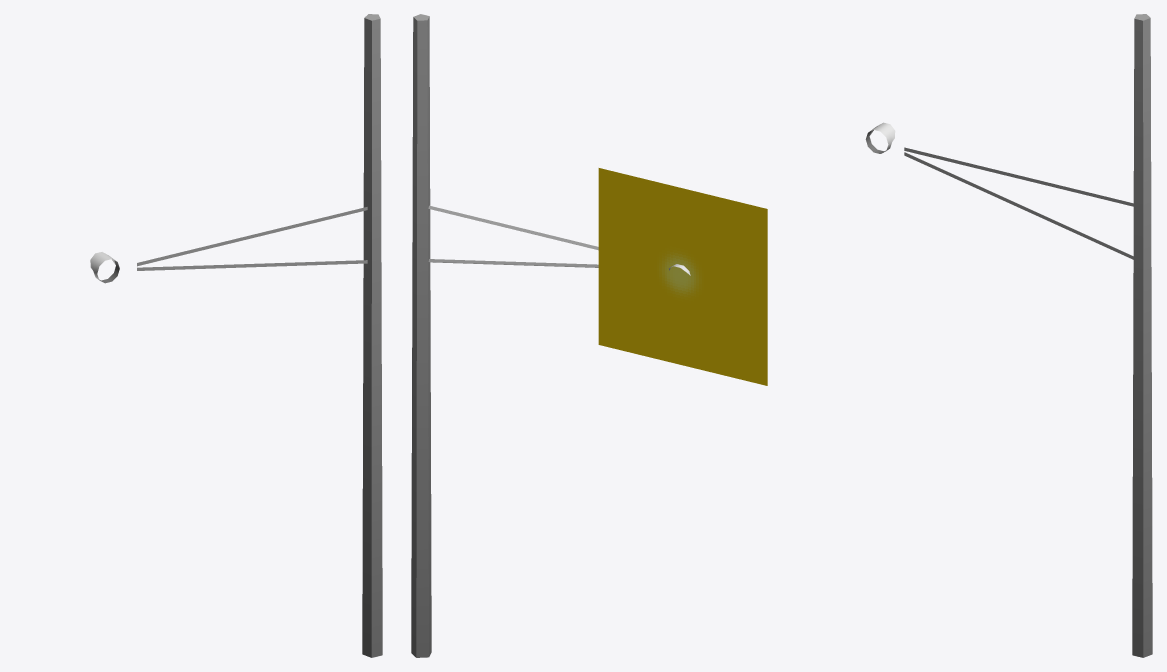
Rendered from SIGNAL_ROMEN_GO.glb.
3 renders of one model, left to right at view 1: azimuth 30°, elevation 25°; view 2: azimuth 150°, elevation 25°; view 3: azimuth 330°, elevation 25°, orthographic.
Parts seen in each view (by area): view 1: Model; view 2: Model; view 3: Model.
Boxes of the visible parts, box(x1,y1,x2,y2) form: Model: box(90, 14, 382, 657); Model: box(411, 14, 767, 657); Model: box(865, 14, 1152, 657).
Size of the model in its own units: 19.26 by 32.42 by 1.29.
Materials: 2 (1 with a texture image).
